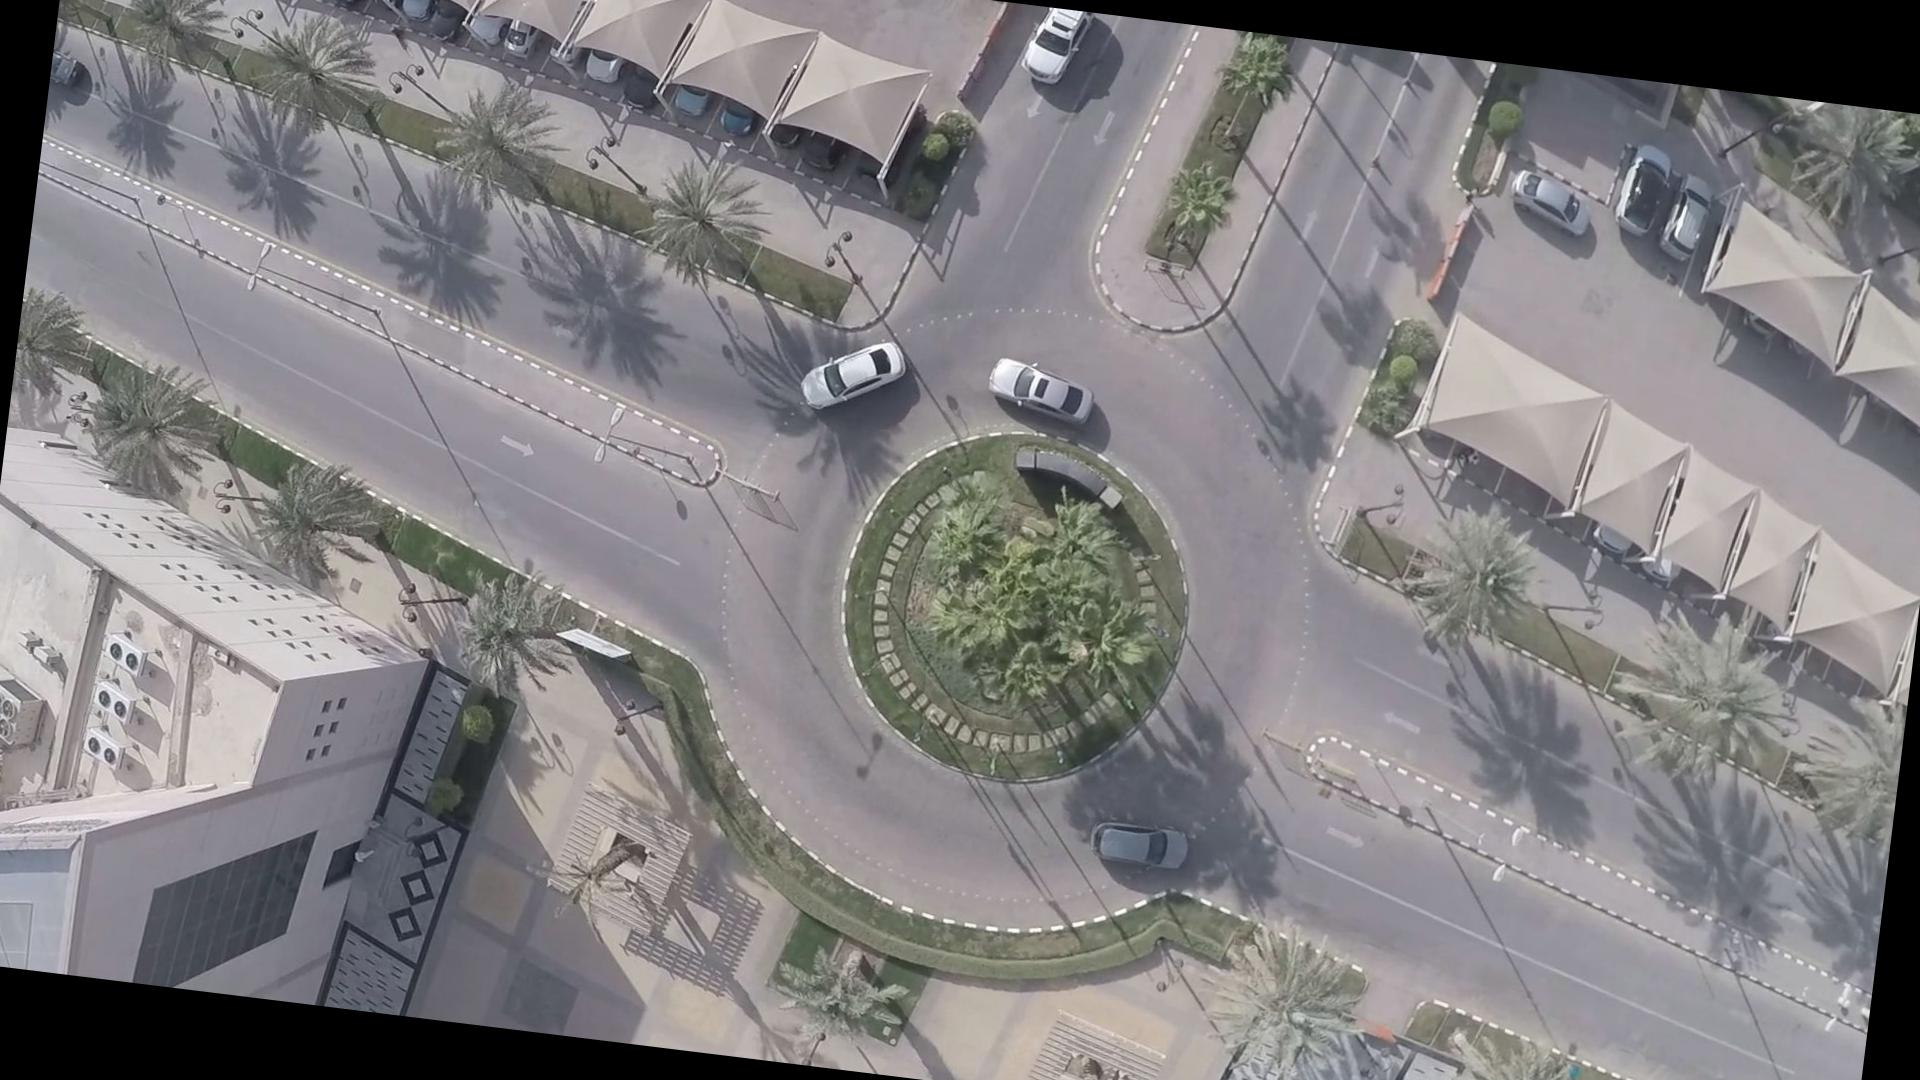vehicle: (774, 322, 922, 419), (971, 338, 1097, 431), (1076, 803, 1192, 868)
